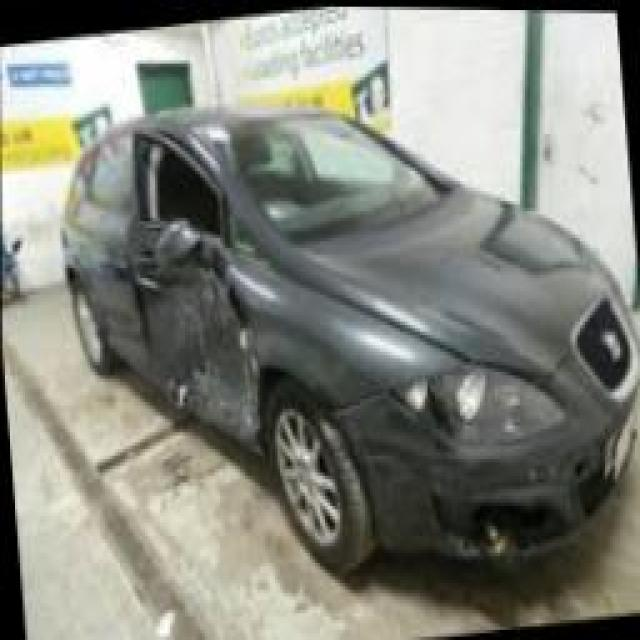Door: (128, 124, 258, 446)
